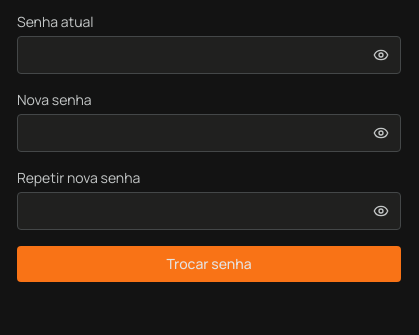
Scenario: ChangePasswordForm › mostra erro genérico quando a requisição falha na rede
This screenshot has width=419, height=335.
Type "senha-atual-123" into the password field labelled "Senha atual" at (209, 55), box [17,36,401,74]
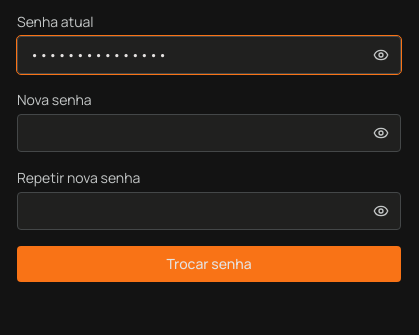
Type "uma-senha-nova-forte" into the password field labelled "Nova senha" at (209, 133), box [17,114,401,152]
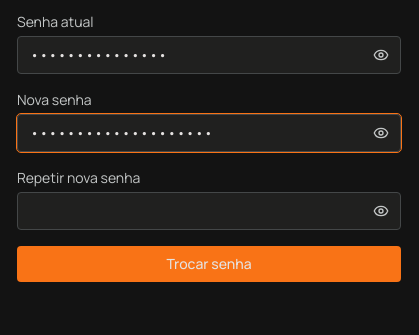
Type "uma-senha-nova-forte" into the password field labelled "Repetir nova senha" at (209, 211), box [17,192,401,230]
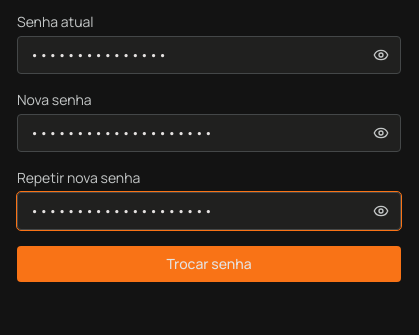
Click the button "Trocar senha" at (209, 264), box [17,246,401,282]
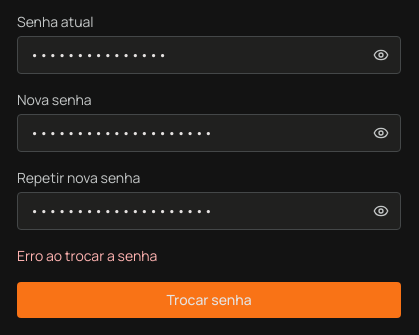
Expected: the message reads "Erro ao trocar a senha", [17,246,157,265]
